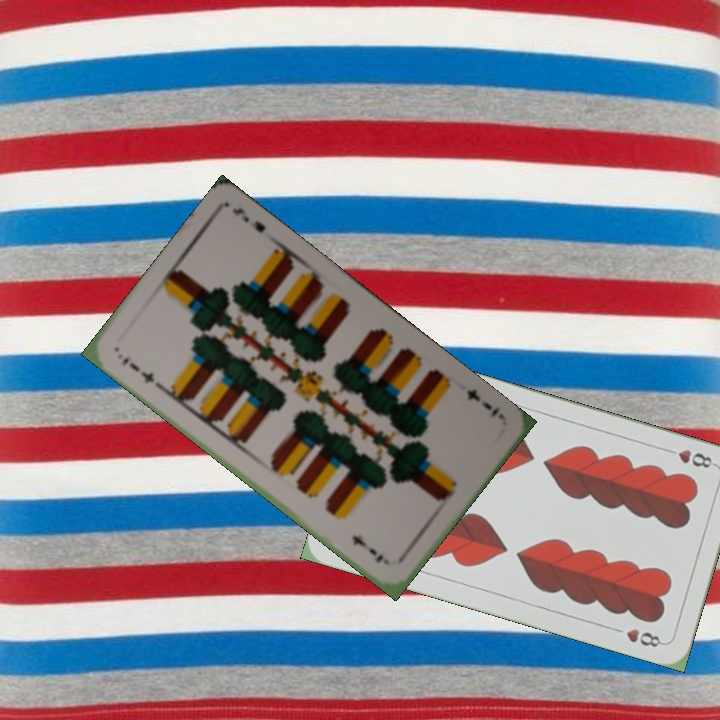E7: (117, 352, 164, 390), (462, 385, 503, 420)
H8: (661, 444, 719, 471)
